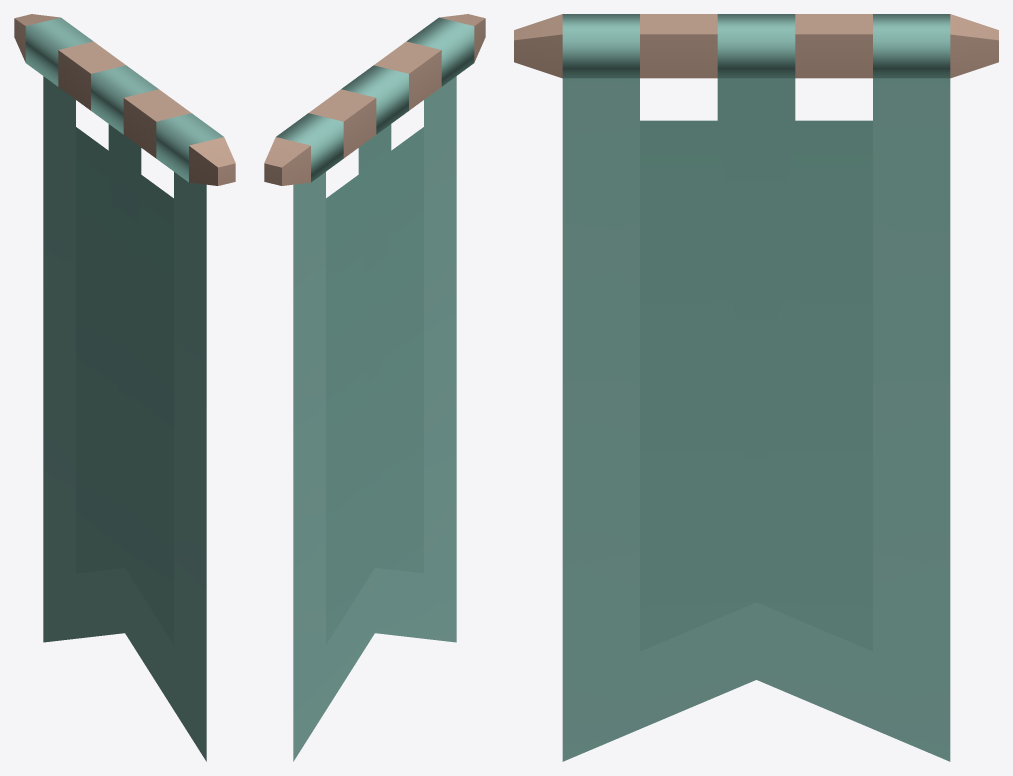
The model's file is banner-green.glb.
3 views of the same model, side by side, from view 1: azimuth 30°, elevation 25°; view 2: azimuth 150°, elevation 25°; view 3: azimuth 270°, elevation 25° (orthographic). The views are drawn at different scales.
Visible parts, largest first — view 1: banner-green; view 2: banner-green; view 3: banner-green.
Part boxes in pixels (left/top/right/bottom): banner-green: left=14, top=14, right=235, bottom=761; banner-green: left=264, top=14, right=485, bottom=761; banner-green: left=514, top=14, right=998, bottom=761.
Size of the model in its own units: 0.05 by 0.8394 by 0.5.
